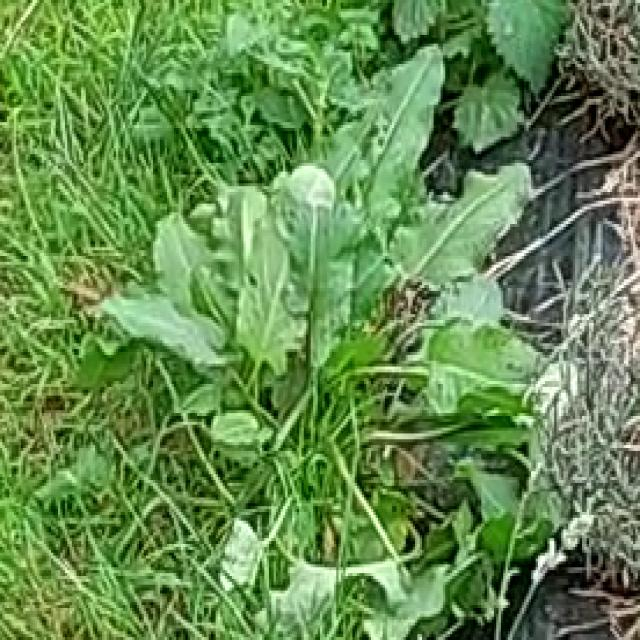organic waste: (118, 67, 529, 556)
